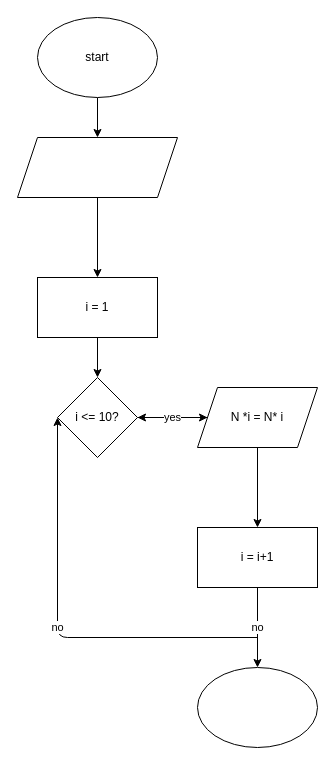
Some shapes in this 335 by 765 pixel diagram are drawn without their labels. The shapes that lost their labels are listed below. From the top down, each one's centre as x and y in pixels, then its label:
(97,167): input: N
(257,707): end
